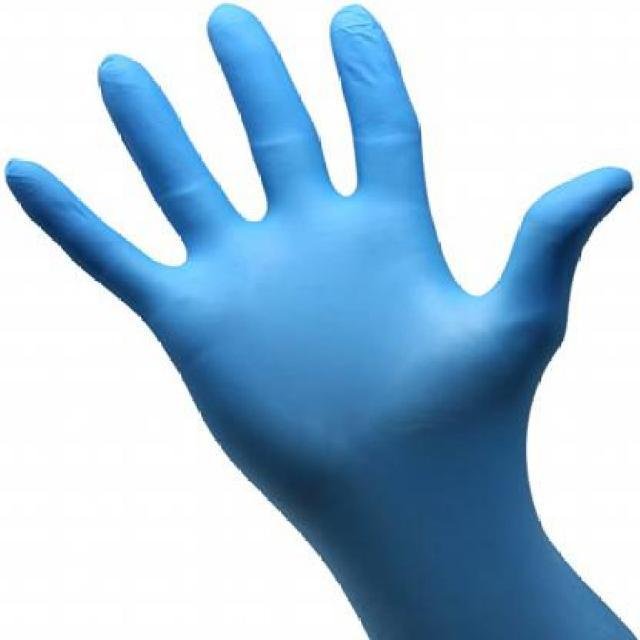Gloves: (9, 19, 640, 640)
